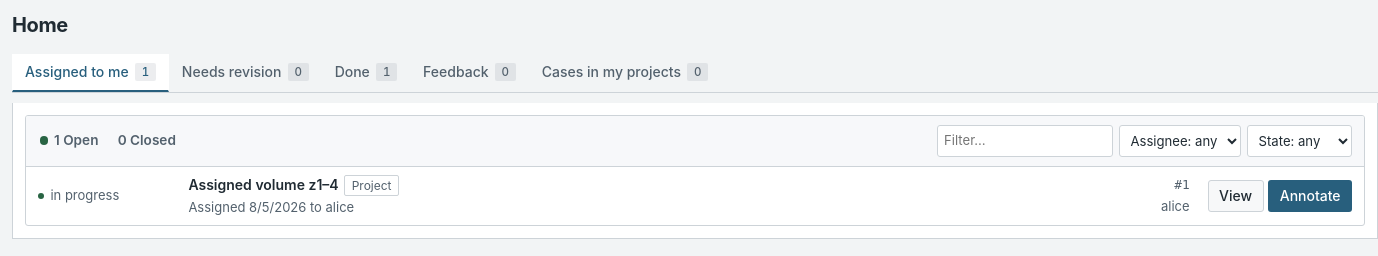
it: HomePage › gives an annotator their own queues and keeps Annotate on the row
expect the link "Assigned volume z1–4" is shown: met, box [188,175,339,195]
expect the button "Annotate" is shown: met, box [1268,180,1352,212]
Click the tab "Done 1" at (366, 73), box [322,54,410,92]
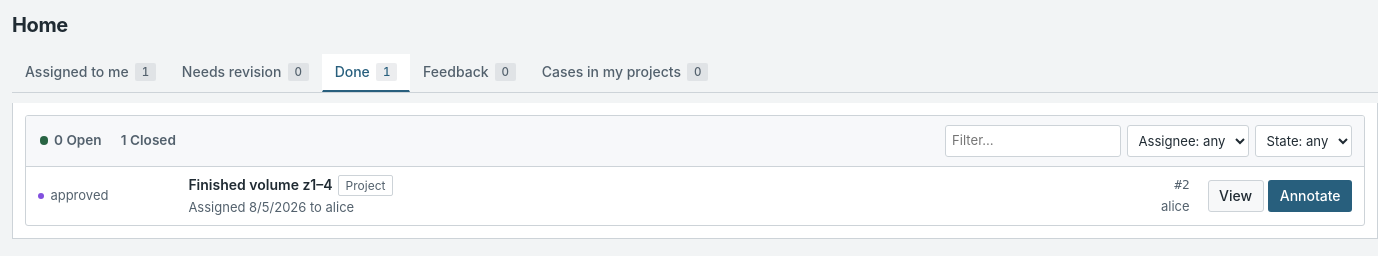
expect the link "Finished volume z1–4" is shown: met, box [188,175,333,195]
expect the link "Assigned volume z1–4" is gone: met
